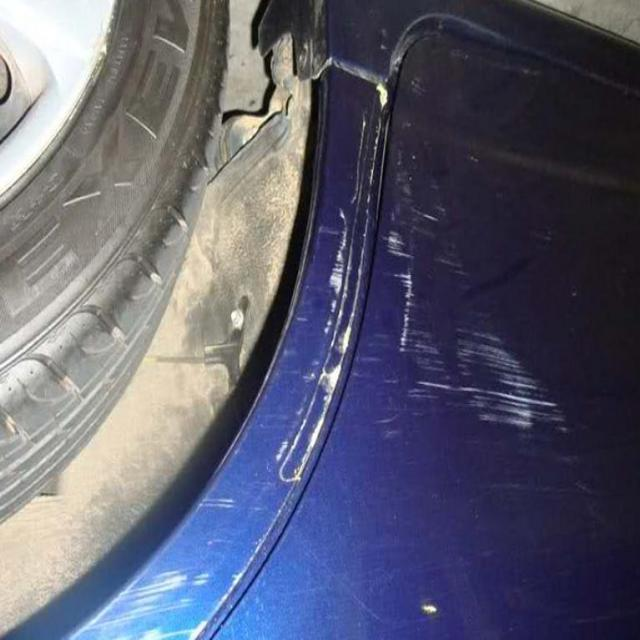scratch: (377, 165, 600, 505)
